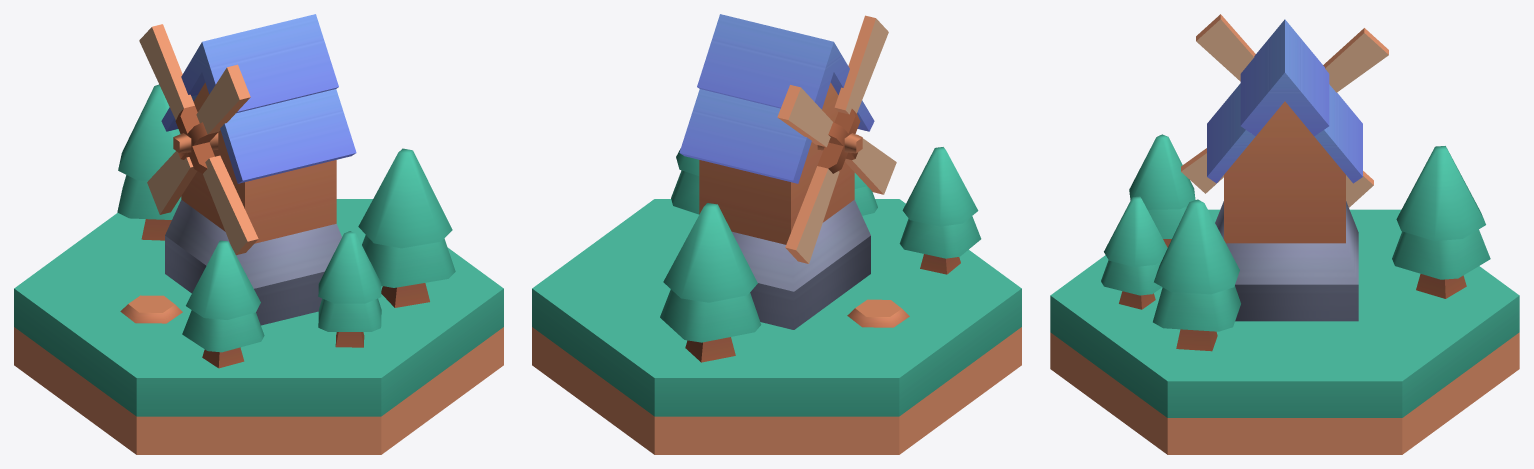
File: kenney-hexagon-building-mill.glb
3 views of the same model, side by side, from view 1: azimuth 30°, elevation 25°; view 2: azimuth 150°, elevation 25°; view 3: azimuth 270°, elevation 25° (orthographic). The views are drawn at different scales.
Parts seen in each view (by area): view 1: building_mill, rotate_x; view 2: building_mill, rotate_x; view 3: building_mill, rotate_x.
Part boxes in pixels (<box>): building_mill: <box>14,14,503,454</box>; rotate_x: <box>139,24,258,255</box>; building_mill: <box>532,14,1021,454</box>; rotate_x: <box>777,15,896,263</box>; building_mill: <box>1050,19,1519,454</box>; rotate_x: <box>1181,14,1388,207</box>.
Bounding box in the file's own units: 1 × 0.8811 × 1.15.
1 material, 1 textured.
